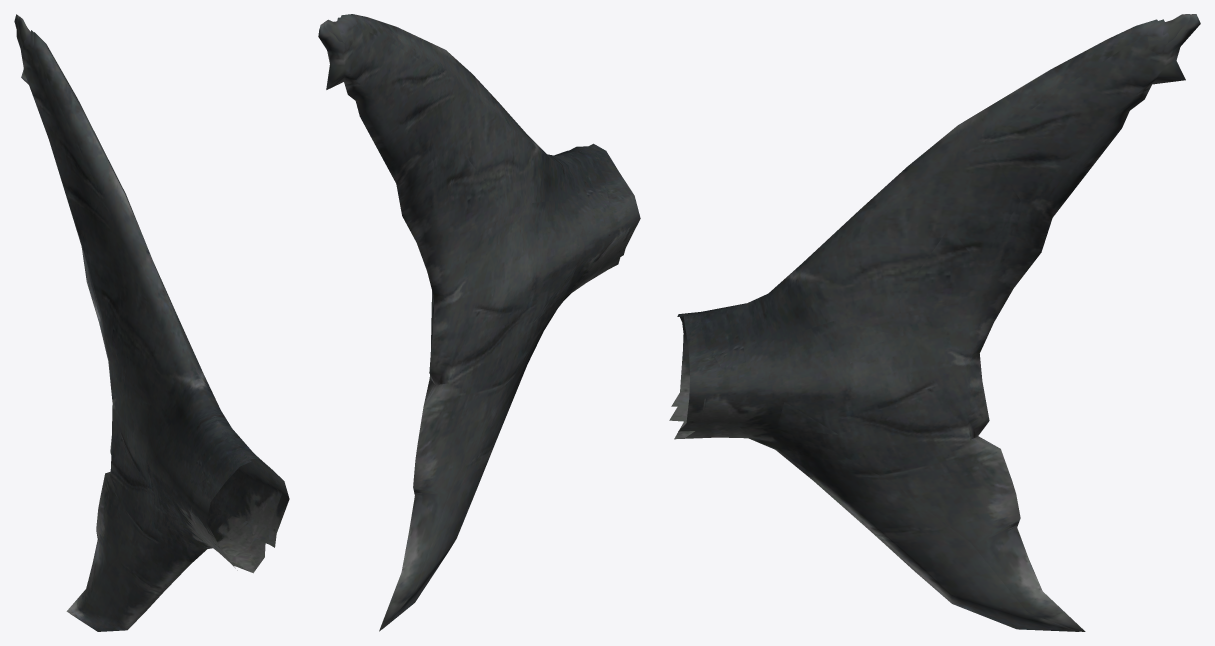
The model's file is colatbu.obj.
The picture shows the model from 3 angles, left to right: view 1: azimuth 30°, elevation 25°; view 2: azimuth 150°, elevation 25°; view 3: azimuth 270°, elevation 25°; orthographic projection. The views are drawn at different scales.
Visible parts, largest first — view 1: great_white_shark001, great_white_shark; view 2: great_white_shark, great_white_shark001; view 3: great_white_shark, great_white_shark001.
Boxes of the visible parts, box(x1,y1,x2,y2) form: great_white_shark001: box(18, 16, 282, 631); great_white_shark: box(14, 14, 289, 613); great_white_shark: box(318, 17, 636, 631); great_white_shark001: box(324, 14, 640, 628); great_white_shark: box(669, 14, 1200, 631); great_white_shark001: box(671, 14, 1189, 631).
Size of the model in its own units: 0.3402 by 2.11 by 1.65.
1 material, 1 textured.
